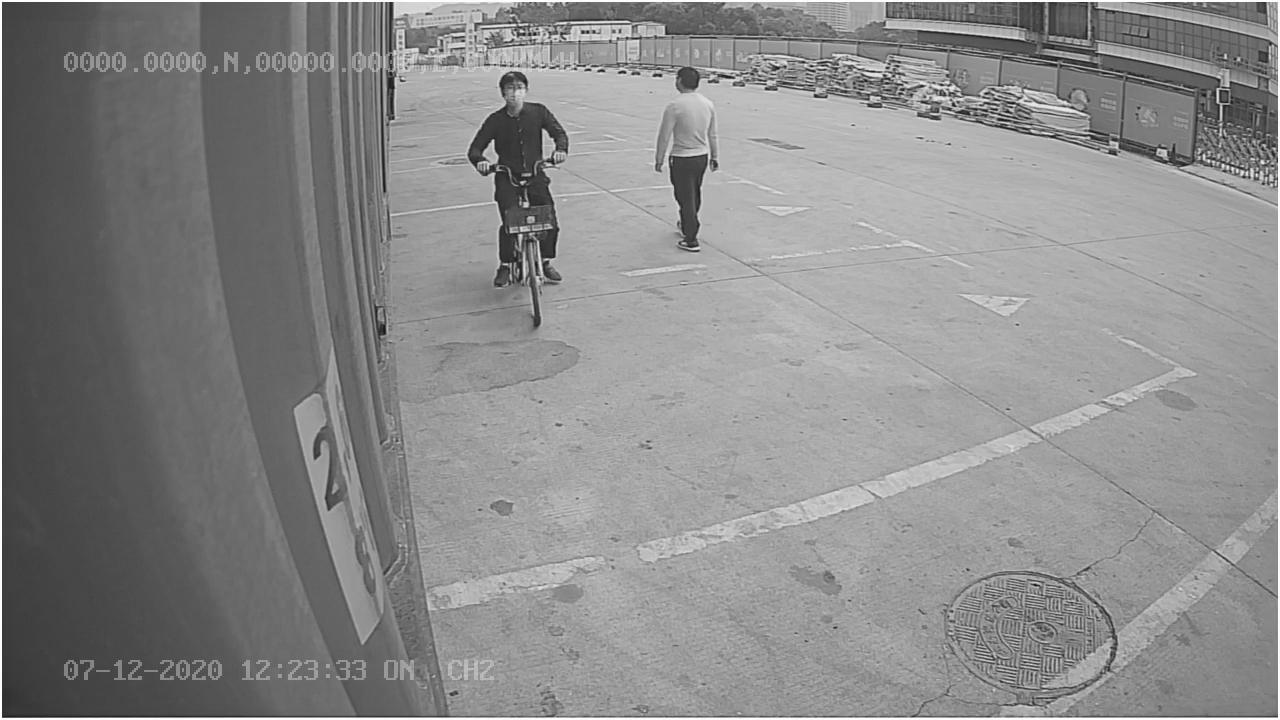person: (649, 64, 725, 256)
